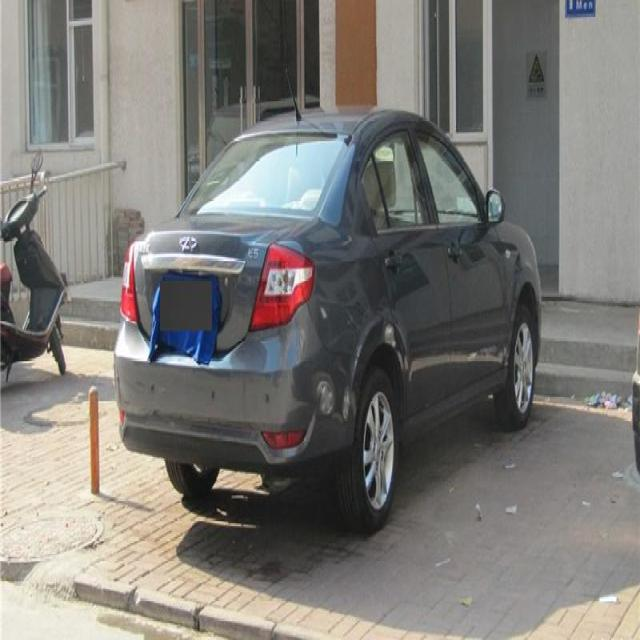back_glass: (171, 130, 353, 222)
back_left_side_light: (119, 237, 140, 329)
back_right_side_light: (249, 242, 315, 340)
door: (348, 122, 458, 421)
front_right_side_door: (410, 117, 510, 409)
front_right_side_mirror: (483, 186, 507, 229)
rear_bumper: (114, 318, 356, 471)
wheel: (343, 360, 399, 529), (500, 299, 534, 426)
